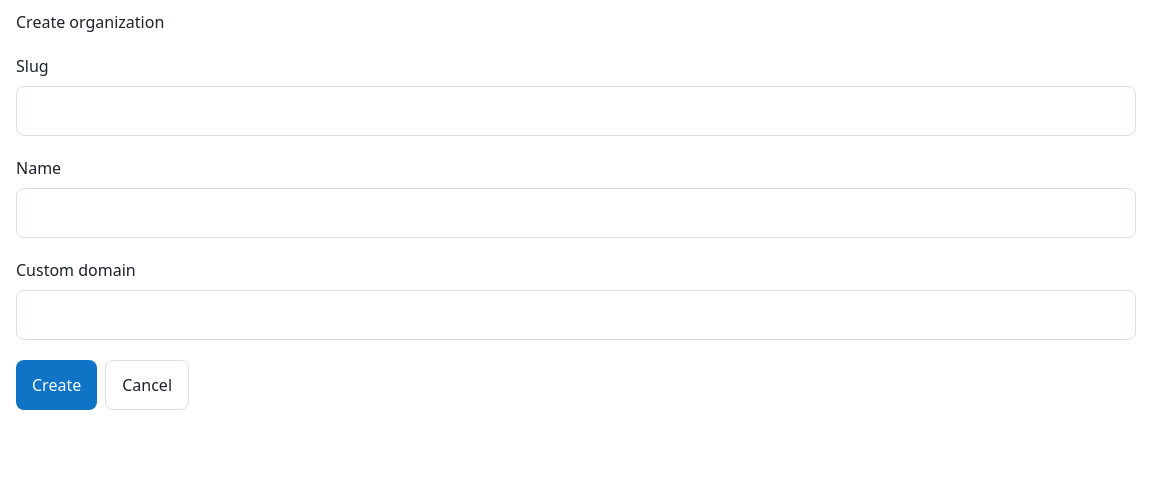
Test: CreateOrganizationForm › shows validation errors and does not submit when empty
Step 1. Click the button "Create" → x=57, y=385, box [16,360,97,410]
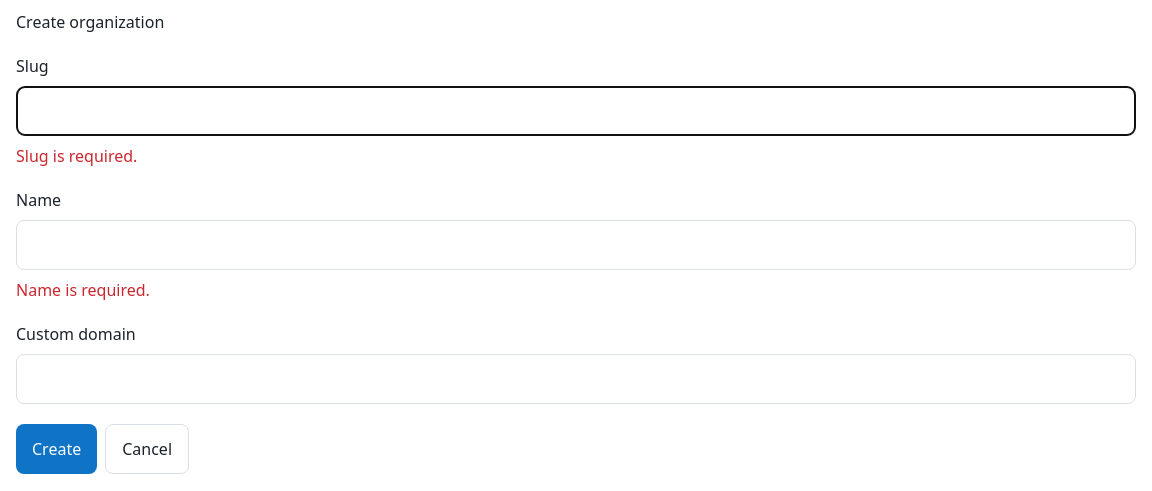
Now the text "Slug is required." is shown, box [16,145,137,167]
Now the text "Name is required." is shown, box [16,279,150,301]
